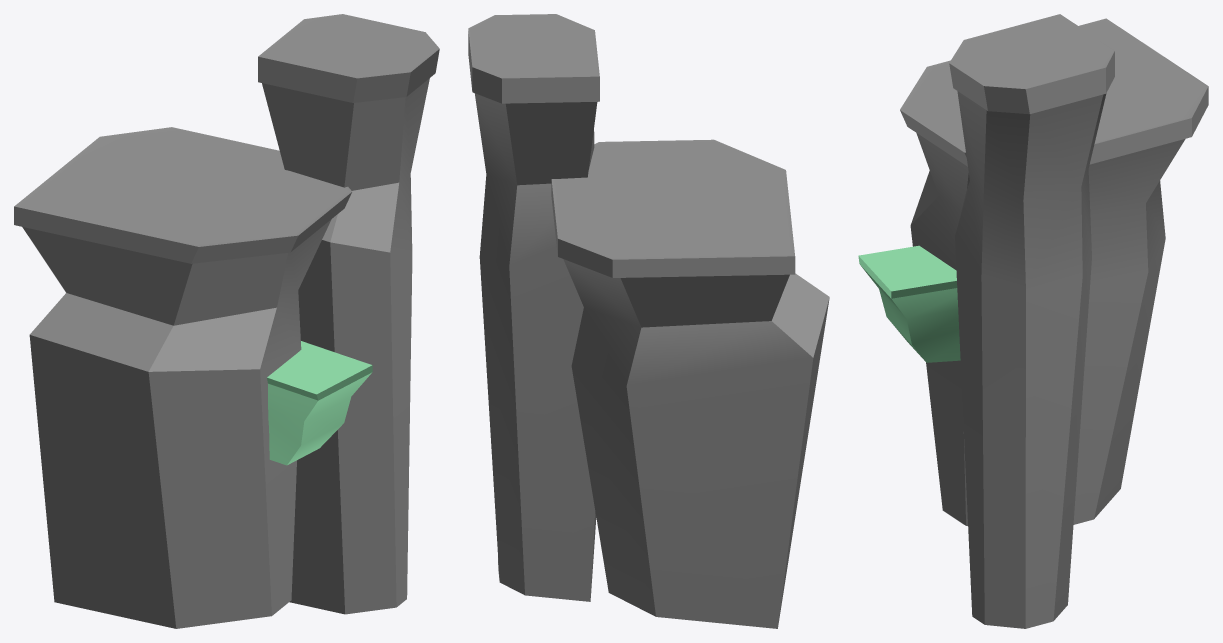
Rendered from someBackground_2_B.fbx.
3 renders of one model, left to right at view 1: azimuth 30°, elevation 25°; view 2: azimuth 150°, elevation 25°; view 3: azimuth 270°, elevation 25°, orthographic. The views are drawn at different scales.
Visible parts, largest first — view 1: pCube13; view 2: pCube13; view 3: pCube13.
Part boxes in pixels (x1,y1,x2,y2): pCube13: (14,14,439,628); pCube13: (468,14,829,628); pCube13: (858,14,1208,628).
Bounding box in the file's own units: 775 × 1075 × 615.
